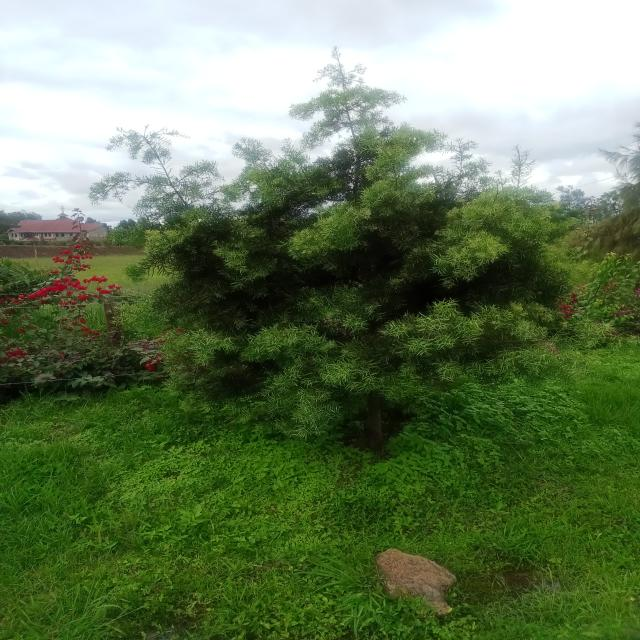Podocarpus falcatus: (155, 49, 587, 452)
